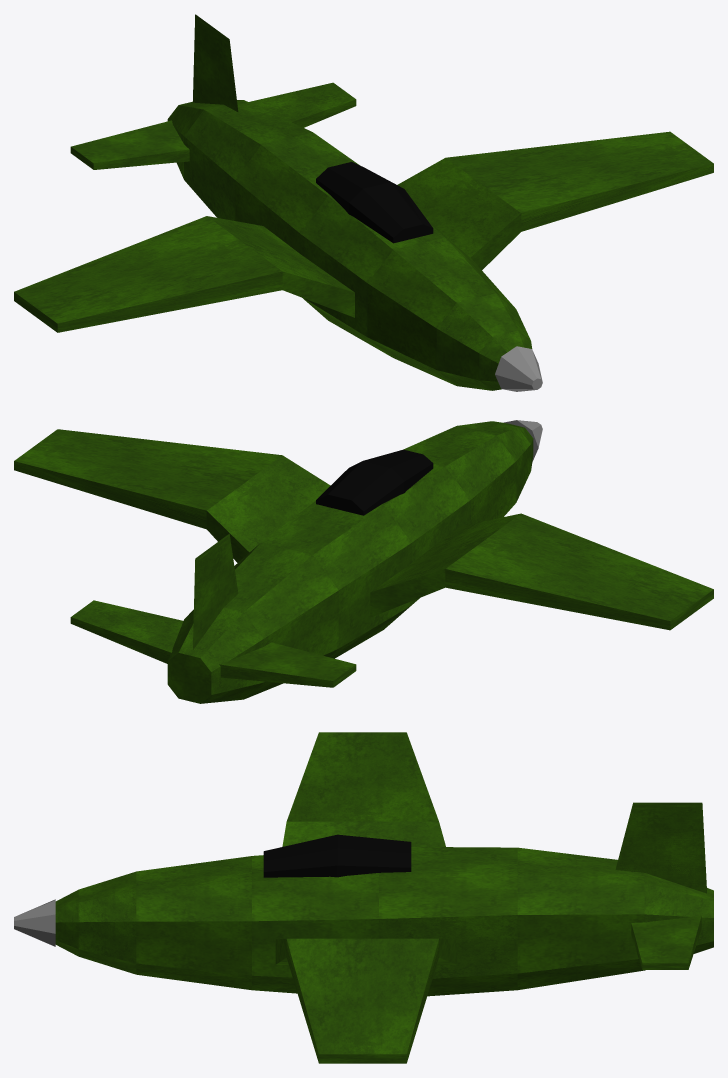
File: plane_warhog.obj
The picture shows the model from 3 angles, top to bottom: view 1: azimuth 30°, elevation 25°; view 2: azimuth 150°, elevation 25°; view 3: azimuth 270°, elevation 25°; orthographic projection.
Parts seen in each view (by area): view 1: plane_warhog; view 2: plane_warhog; view 3: plane_warhog.
Part boxes in pixels (box(x1,y1,x2,y2)): plane_warhog: box(14, 14, 713, 391); plane_warhog: box(14, 420, 713, 703); plane_warhog: box(14, 732, 713, 1063).
Size of the model in its own units: 33 by 8.75 by 30.3.
